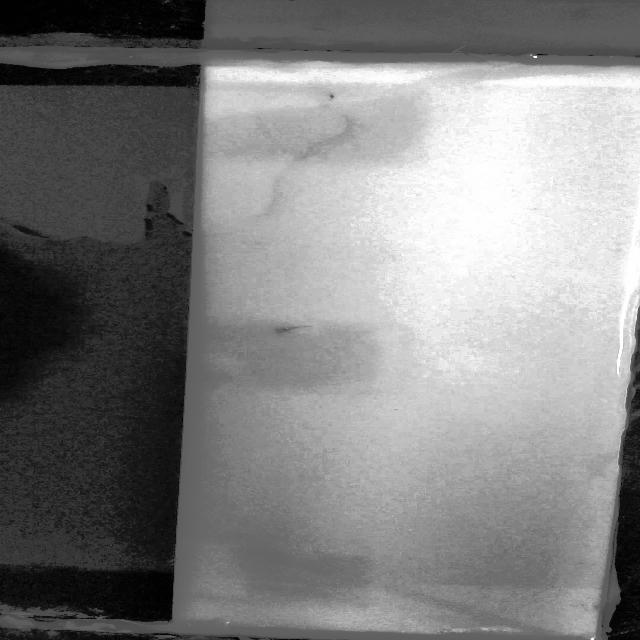shrimp: (266, 322, 316, 336), (318, 90, 350, 100)
